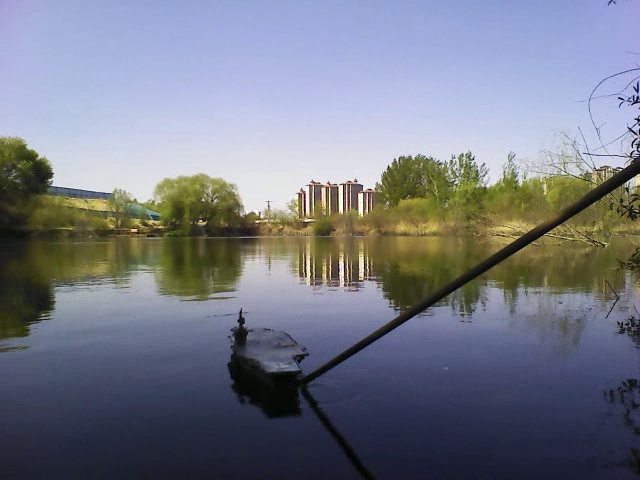aircraft_carrier: (230, 310, 313, 386)
